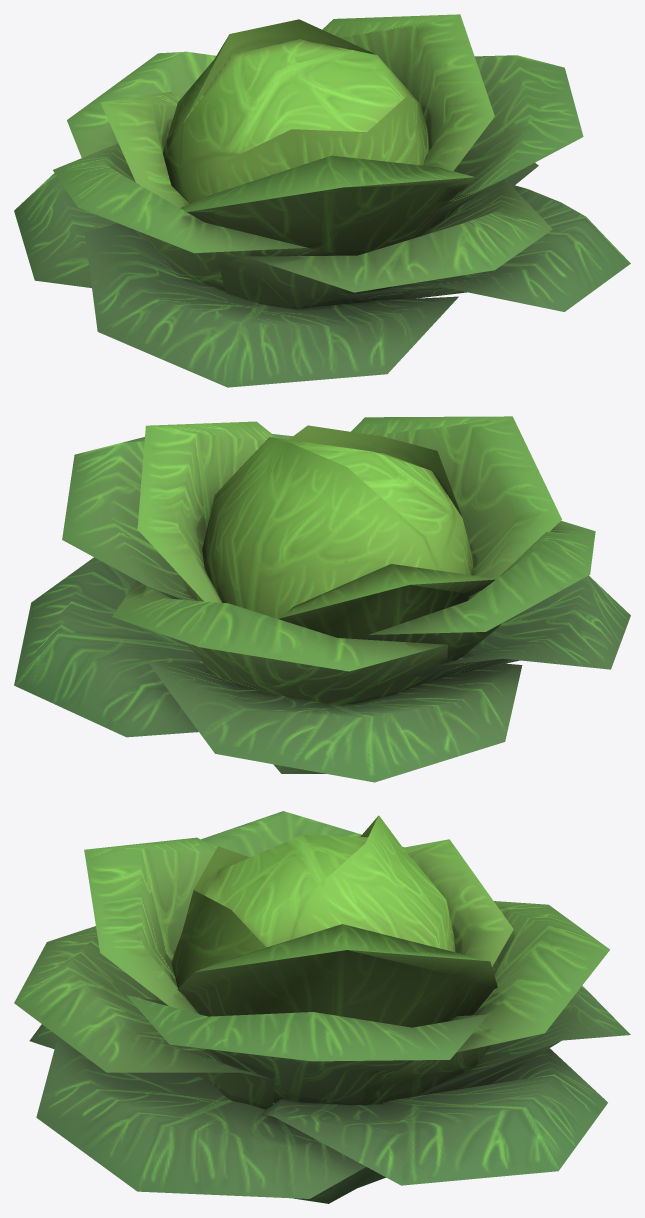
File: cabbage_4.FBX
3 renders of one model, top to bottom at view 1: azimuth 30°, elevation 25°; view 2: azimuth 150°, elevation 25°; view 3: azimuth 270°, elevation 25°, orthographic. The views are drawn at different scales.
Visible parts, largest first — view 1: cabbage_4; view 2: cabbage_4; view 3: cabbage_4.
Boxes of the visible parts, x1,y1,x2,y2 form: cabbage_4: (14,14,630,387); cabbage_4: (14,416,630,782); cabbage_4: (14,811,630,1203).
Bounding box in the file's own units: 45.84 × 27.78 × 46.13.
1 material, 1 textured.
